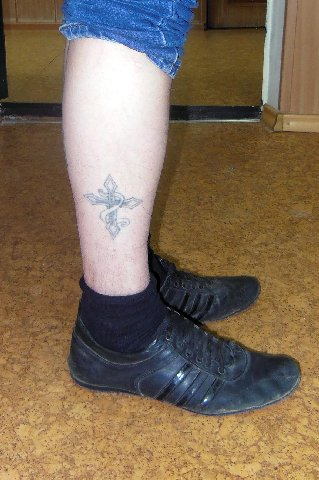tatu9_krest: (83, 172, 148, 244)
